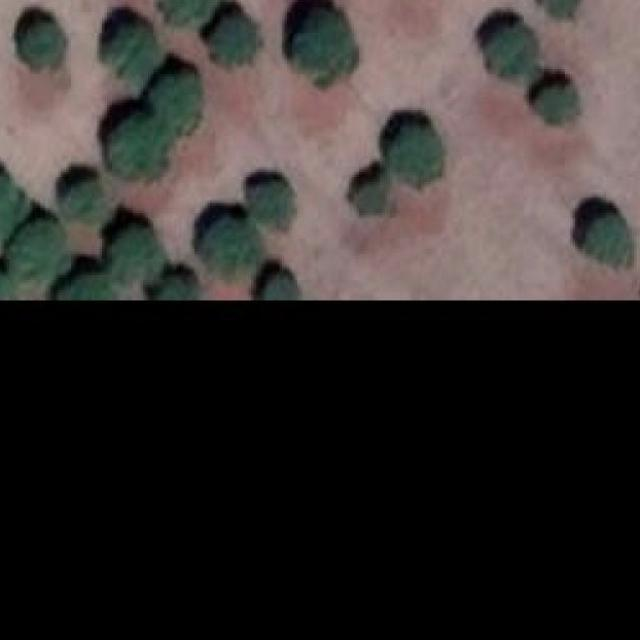Tree: (148, 72, 210, 139), (9, 216, 69, 283), (295, 5, 352, 72), (577, 208, 637, 269), (385, 123, 444, 182), (486, 23, 547, 79), (198, 218, 254, 275), (107, 115, 164, 170), (110, 223, 162, 283), (207, 9, 256, 69), (105, 26, 151, 80), (56, 262, 120, 300), (59, 177, 110, 223), (23, 23, 67, 72), (246, 180, 292, 226), (0, 175, 30, 240), (529, 82, 573, 124), (152, 0, 217, 25), (249, 268, 300, 298), (349, 180, 393, 211), (158, 270, 192, 298), (0, 262, 14, 298), (536, 0, 575, 12)
